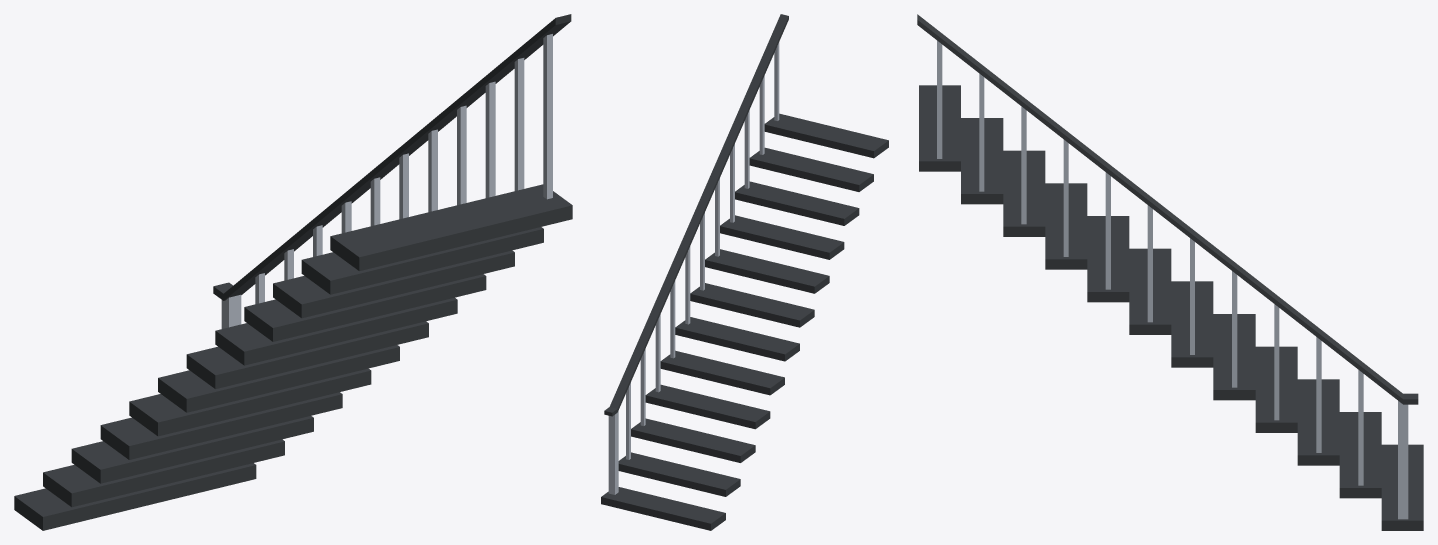
The model's file is Stairs3_C5.fbx.
3 views of the same model, side by side, from view 1: azimuth 30°, elevation 25°; view 2: azimuth 150°, elevation 25°; view 3: azimuth 270°, elevation 25° (orthographic). The views are drawn at different scales.
Parts seen in each view (by area): view 1: Stairs3_C5; view 2: Stairs3_C5; view 3: Stairs3_C5.
Boxes of the visible parts, box(x1,y1,x2,y2) form: Stairs3_C5: box(14, 14, 572, 530); Stairs3_C5: box(601, 14, 888, 530); Stairs3_C5: box(917, 14, 1423, 530).
Size of the model in its own units: 125 by 391 by 351.
